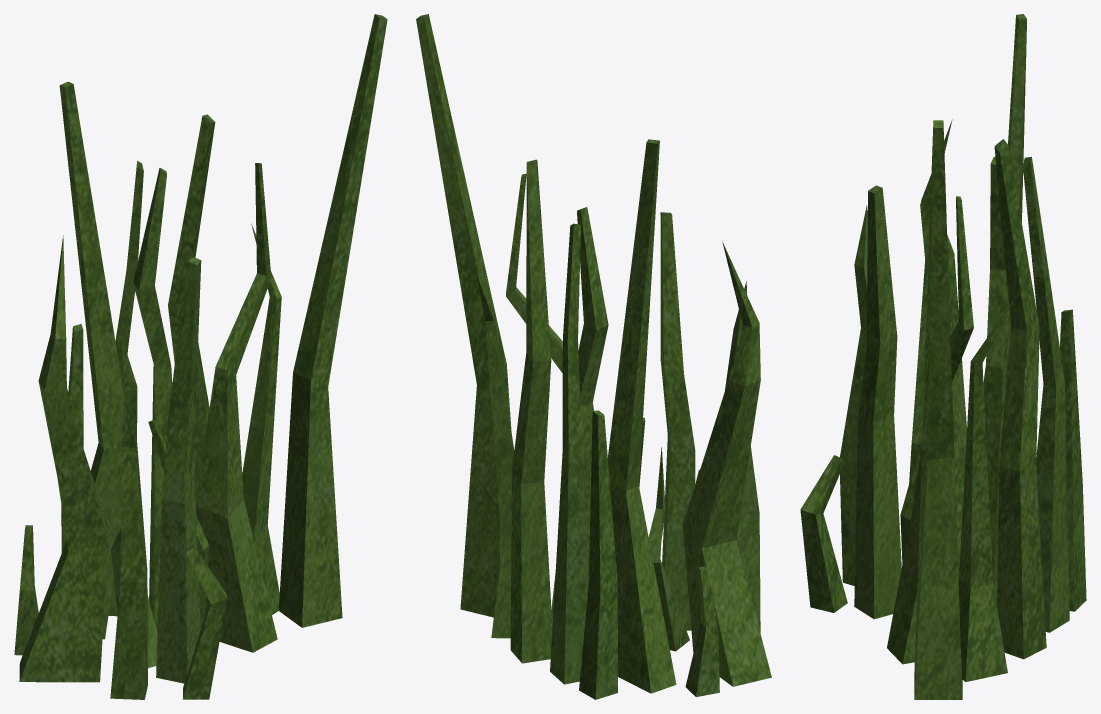
Rendered from erba_5.fbx.
The picture shows the model from 3 angles, left to right: view 1: azimuth 30°, elevation 25°; view 2: azimuth 150°, elevation 25°; view 3: azimuth 270°, elevation 25°; orthographic projection. The views are drawn at different scales.
Visible parts, largest first — view 1: erba_5; view 2: erba_5; view 3: erba_5.
Part boxes in pixels (<box>): erba_5: <box>14,14,387,699</box>; erba_5: <box>416,14,771,699</box>; erba_5: <box>800,14,1086,699</box>.
Size of the model in its own units: 20.29 by 31.19 by 13.41.
